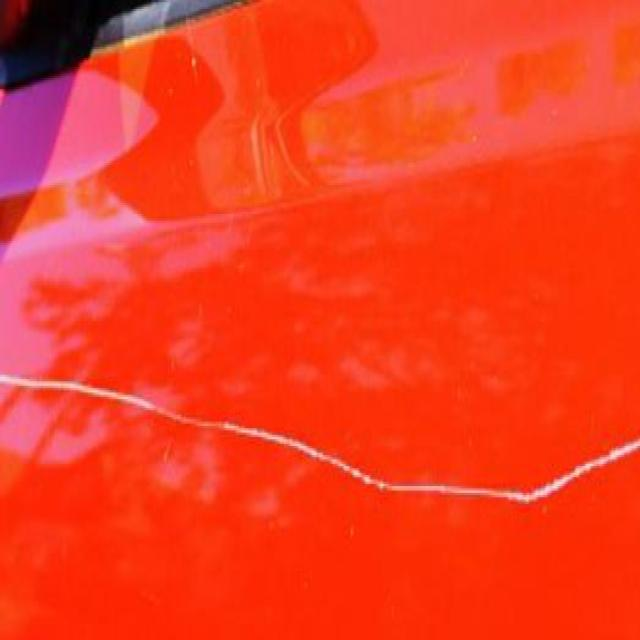scratch: (3, 356, 639, 514)
